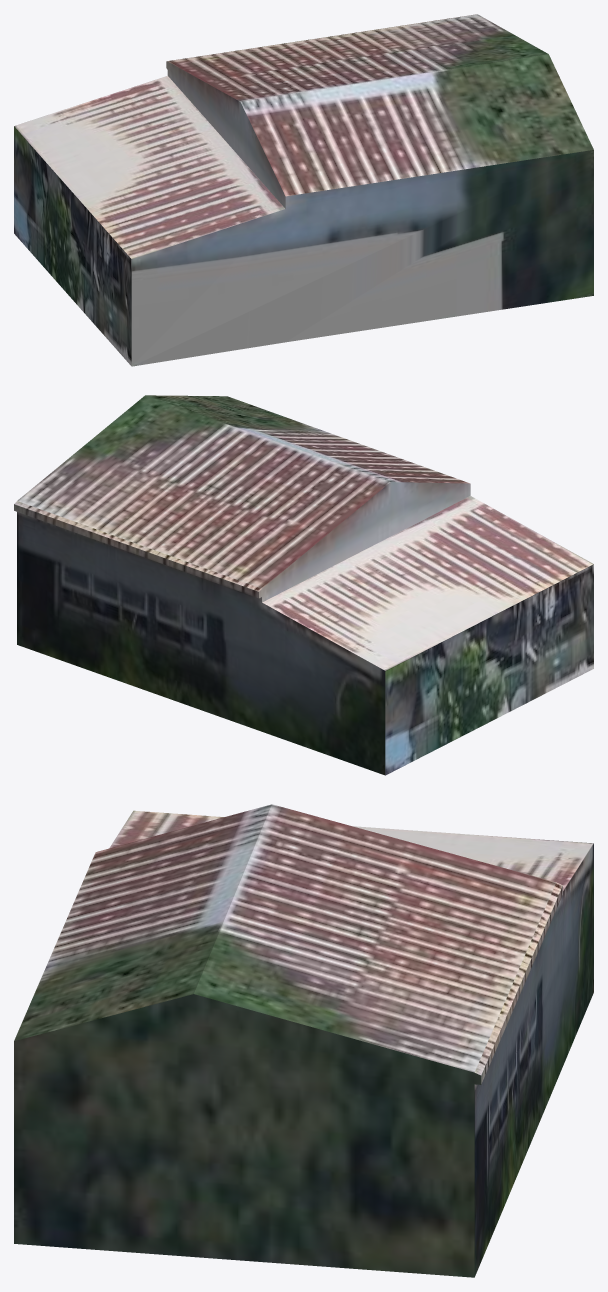
3 renders of one model, top to bottom at view 1: azimuth 30°, elevation 25°; view 2: azimuth 150°, elevation 25°; view 3: azimuth 270°, elevation 25°, orthographic. The views are drawn at different scales.
Visible parts, largest first — view 1: B281894040601062A0; view 2: B281894040601062A0; view 3: B281894040601062A0.
Part boxes in pixels (x1,y1,x2,y2): B281894040601062A0: (14,14,593,366); B281894040601062A0: (14,395,593,775); B281894040601062A0: (14,804,593,1277).
Size of the model in its own units: 13.73 by 5.29 by 10.57.
Materials: 1 (1 with a texture image).
